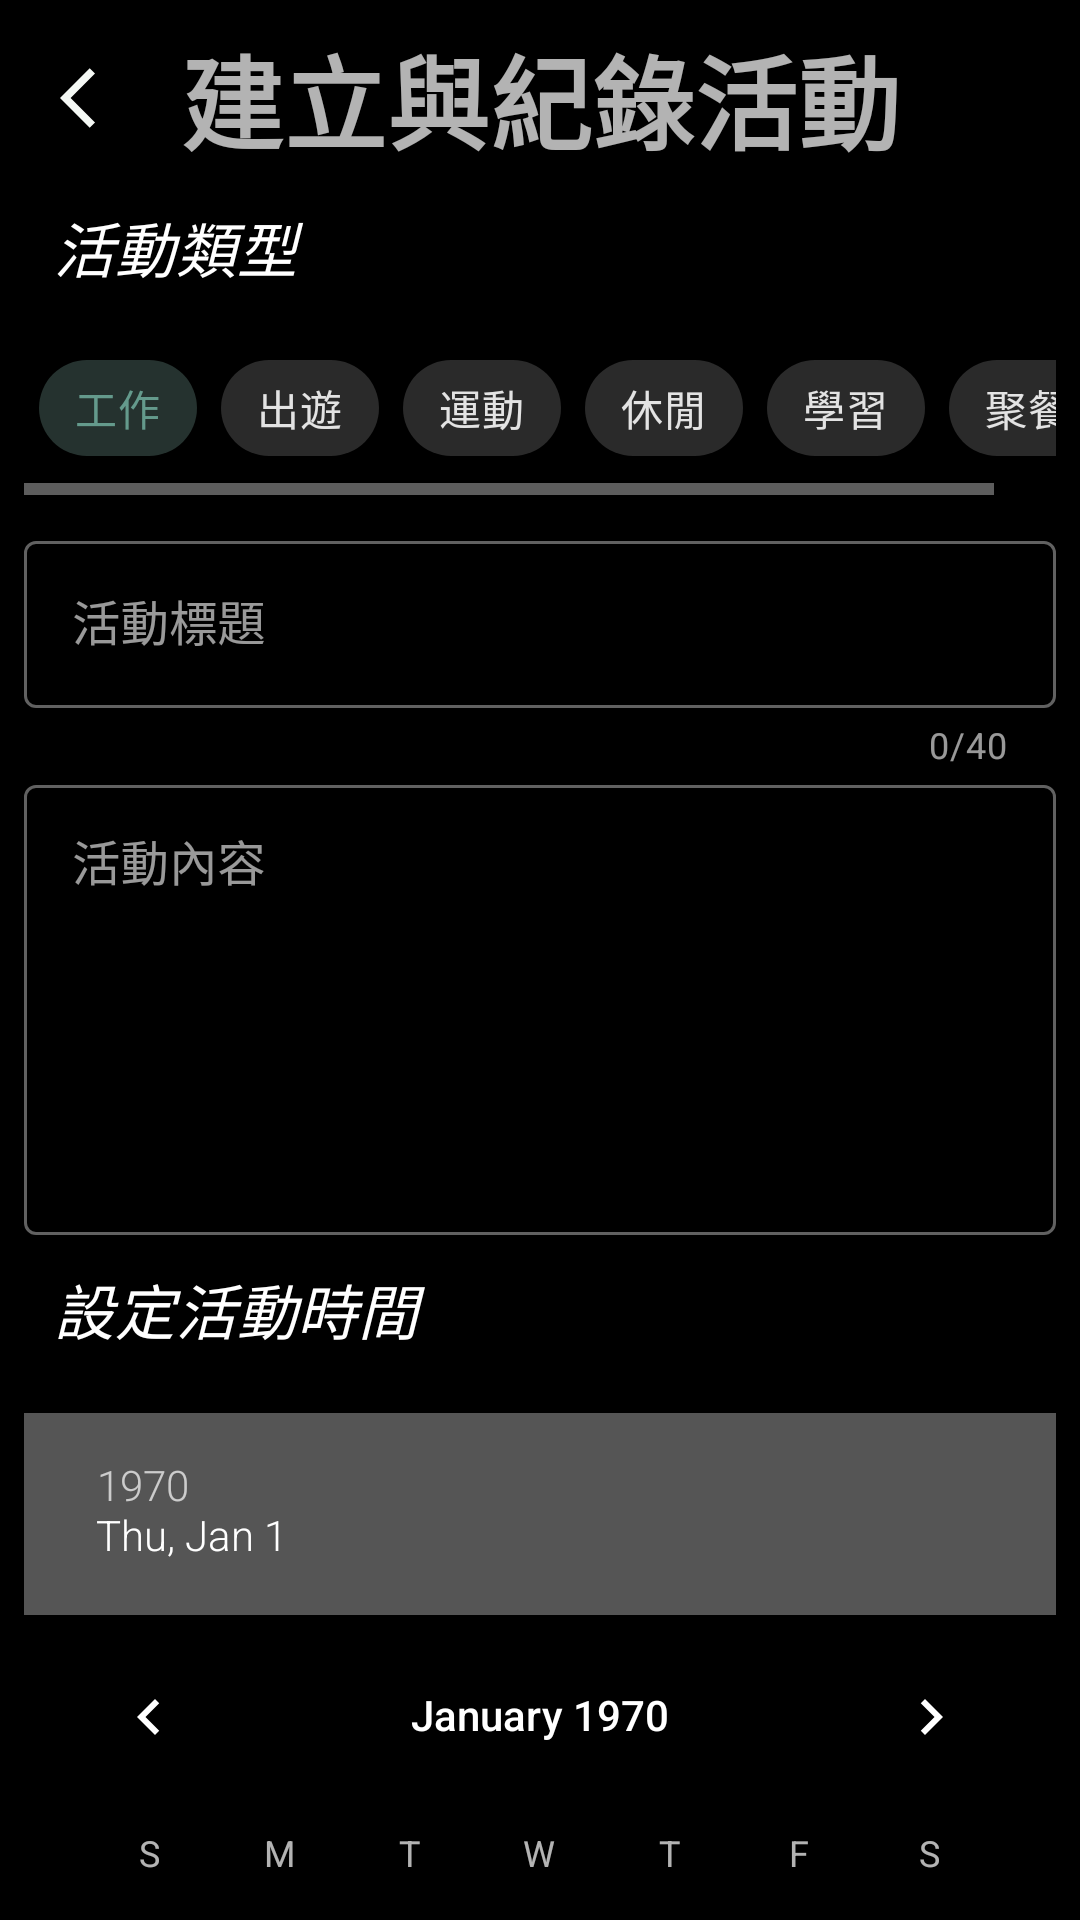

Screen size 1080px x 1920px. Icon name, then its center in pixels as (x=x, y=y):
arrow back: (x=77, y=98)
